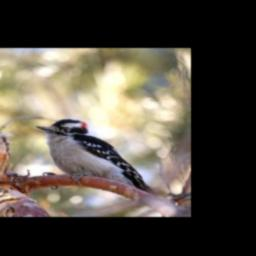Woodpecker: (36, 119, 155, 197)
